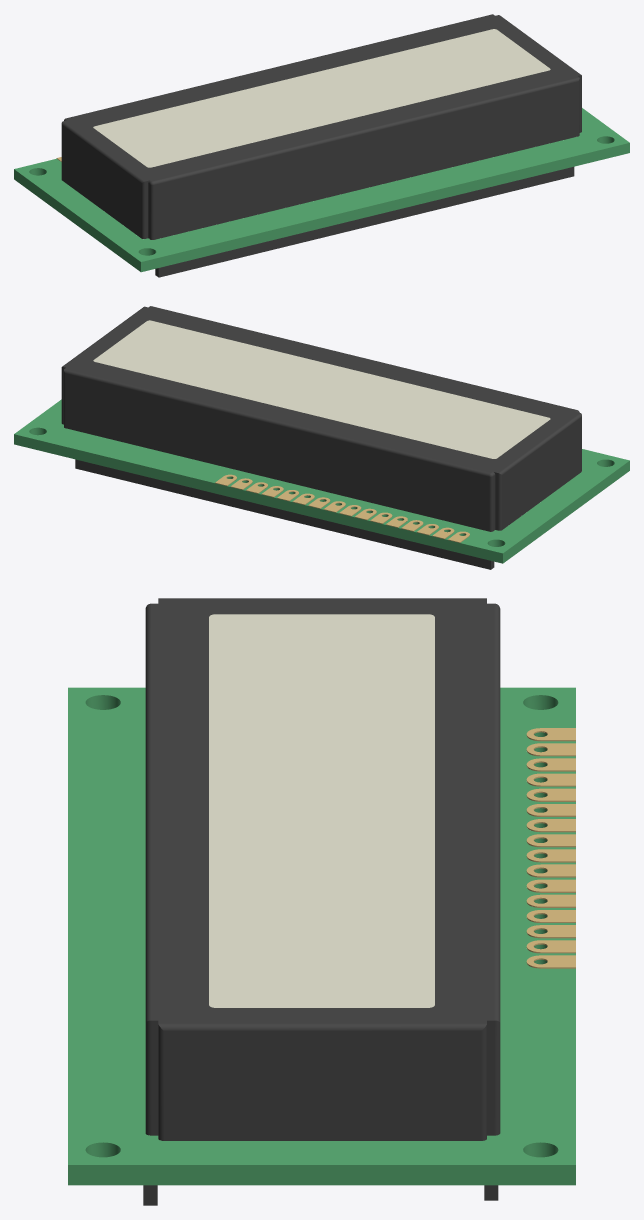
3 views of the same model, one above another, from view 1: azimuth 30°, elevation 25°; view 2: azimuth 150°, elevation 25°; view 3: azimuth 270°, elevation 25° (orthographic). The views are drawn at different scales.
Visible parts, largest first — view 1: 0.08333333333333333_0.08333333333333333_0.08333333333333333_, 0.75_0.75_0.6666666666666666_0, 0.08333333333333333_0.4166666666666667_0.16666666666666666_0; view 2: 0.08333333333333333_0.08333333333333333_0.08333333333333333_, 0.75_0.75_0.6666666666666666_0, 0.08333333333333333_0.4166666666666667_0.16666666666666666_0, 0.75_0.5_0.25_0.9; view 3: 0.08333333333333333_0.08333333333333333_0.08333333333333333_, 0.75_0.75_0.6666666666666666_0, 0.08333333333333333_0.4166666666666667_0.16666666666666666_0, 0.75_0.5_0.25_0.9.
Part boxes in pixels (left/top/right/bottom): 0.08333333333333333_0.08333333333333333_0.08333333333333333_: left=61, top=14, right=581, bottom=277; 0.75_0.75_0.6666666666666666_0: left=93, top=29, right=550, bottom=167; 0.08333333333333333_0.4166666666666667_0.16666666666666666_0: left=14, top=108, right=629, bottom=272; 0.08333333333333333_0.08333333333333333_0.08333333333333333_: left=61, top=306, right=581, bottom=569; 0.75_0.75_0.6666666666666666_0: left=93, top=320, right=550, bottom=458; 0.08333333333333333_0.4166666666666667_0.16666666666666666_0: left=14, top=399, right=629, bottom=563; 0.75_0.5_0.25_0.9: left=215, top=474, right=469, bottom=542; 0.08333333333333333_0.08333333333333333_0.08333333333333333_: left=143, top=598, right=500, bottom=1205; 0.75_0.75_0.6666666666666666_0: left=209, top=614, right=434, bottom=1007; 0.08333333333333333_0.4166666666666667_0.16666666666666666_0: left=68, top=687, right=575, bottom=1185; 0.75_0.5_0.25_0.9: left=526, top=728, right=575, bottom=968.
Bounding box in the file's own units: 8 × 1.5 × 3.6.
